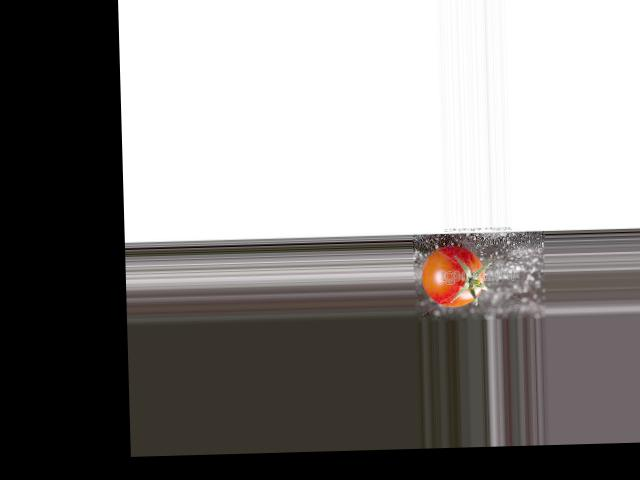tomato: (421, 245, 485, 307)
